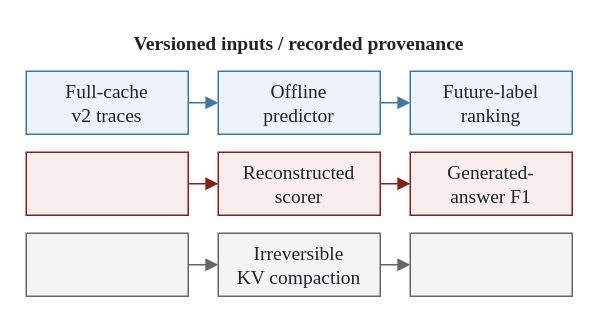
Image size: 599x323. Some labels were removed from this diagram. The shapes that lost their labels are listed below. From the top down, each one's centre as x and y in pixels, then its label:
At [106,183]: "Pinned masked loop".
At [106,264]: "Physical reference".
At [490,264]: "Storage + parity gates".
